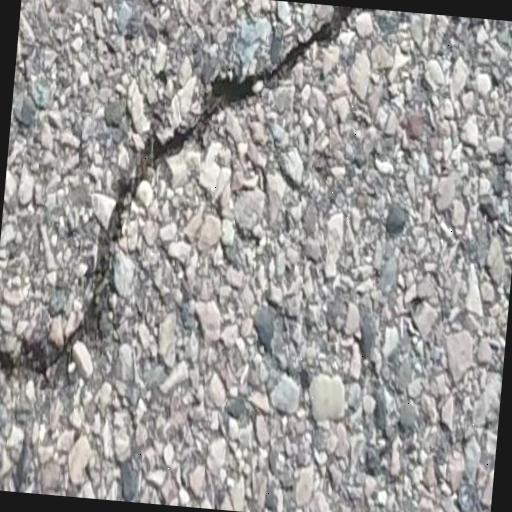spalling: (0, 5, 363, 391)
